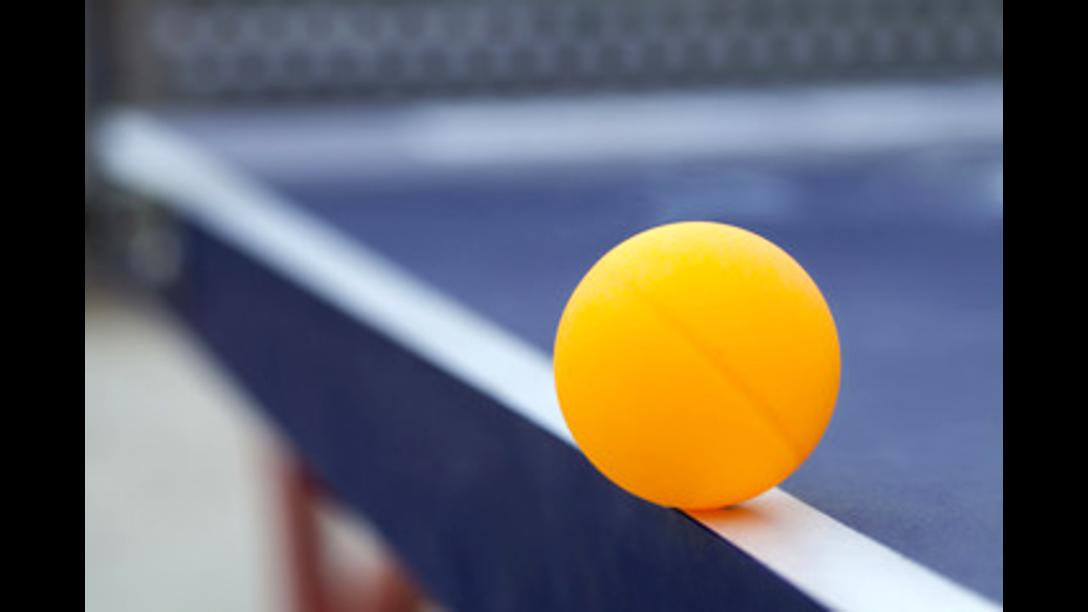Table-Tennis-Ball: (556, 222, 842, 508)
